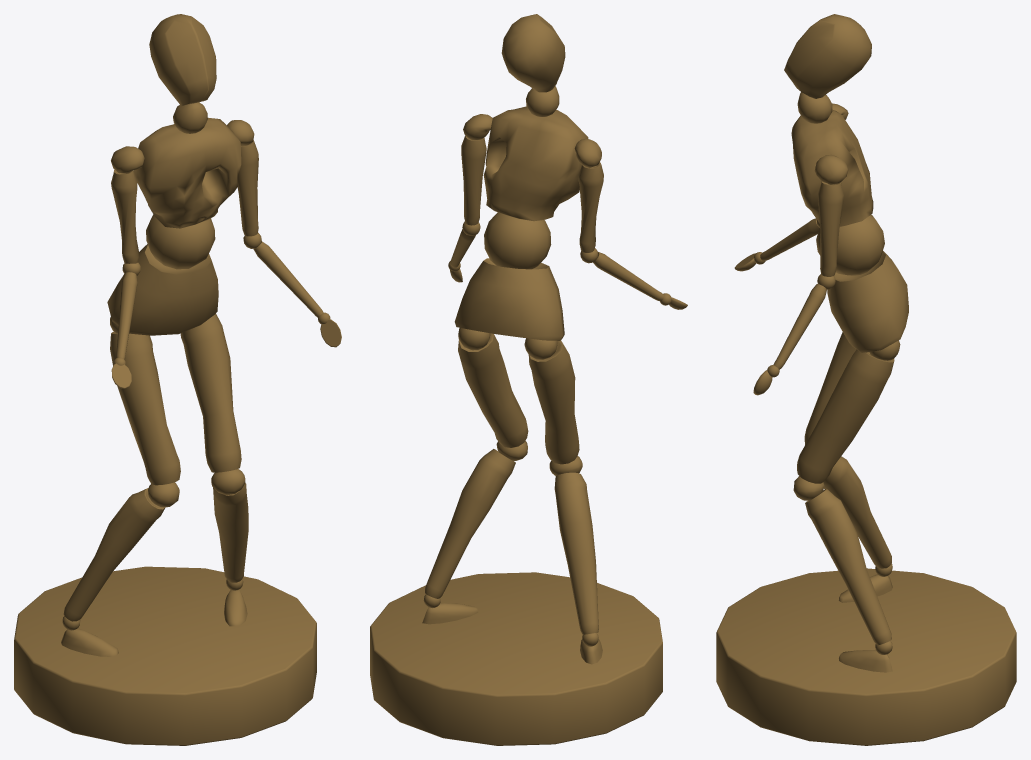
The model's file is maniquíChikito_pose_02.fbx.
3 views of the same model, side by side, from view 1: azimuth 30°, elevation 25°; view 2: azimuth 150°, elevation 25°; view 3: azimuth 270°, elevation 25° (orthographic). The views are drawn at different scales.
Visible parts, largest first — view 1: dummy_obj.003; view 2: dummy_obj.003; view 3: dummy_obj.003.
Boxes of the visible parts, box(x1,y1,x2,y2) form: dummy_obj.003: box(14, 14, 341, 745); dummy_obj.003: box(370, 14, 687, 745); dummy_obj.003: box(716, 14, 1016, 745).
Bounding box in the file's own units: 71.62 × 175 × 71.62.
